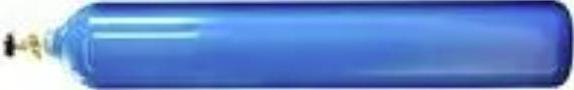cylinder: (1, 0, 574, 90)
